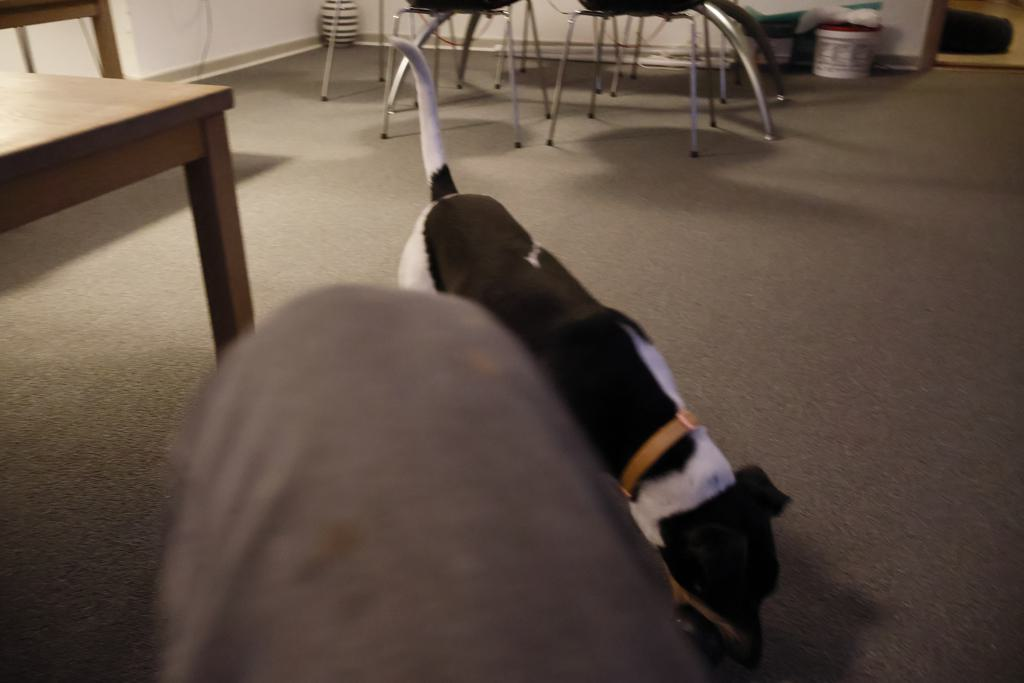Dog: (377, 12, 809, 683)
Humanoid: (138, 278, 722, 683)
